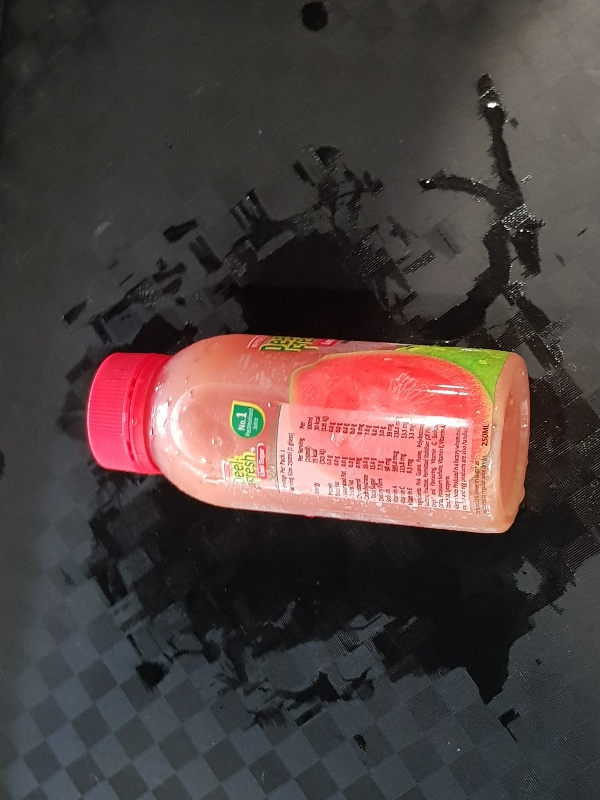Marigold Peel Fresh Pink Guava Juice Drink: (85, 332, 531, 535)
